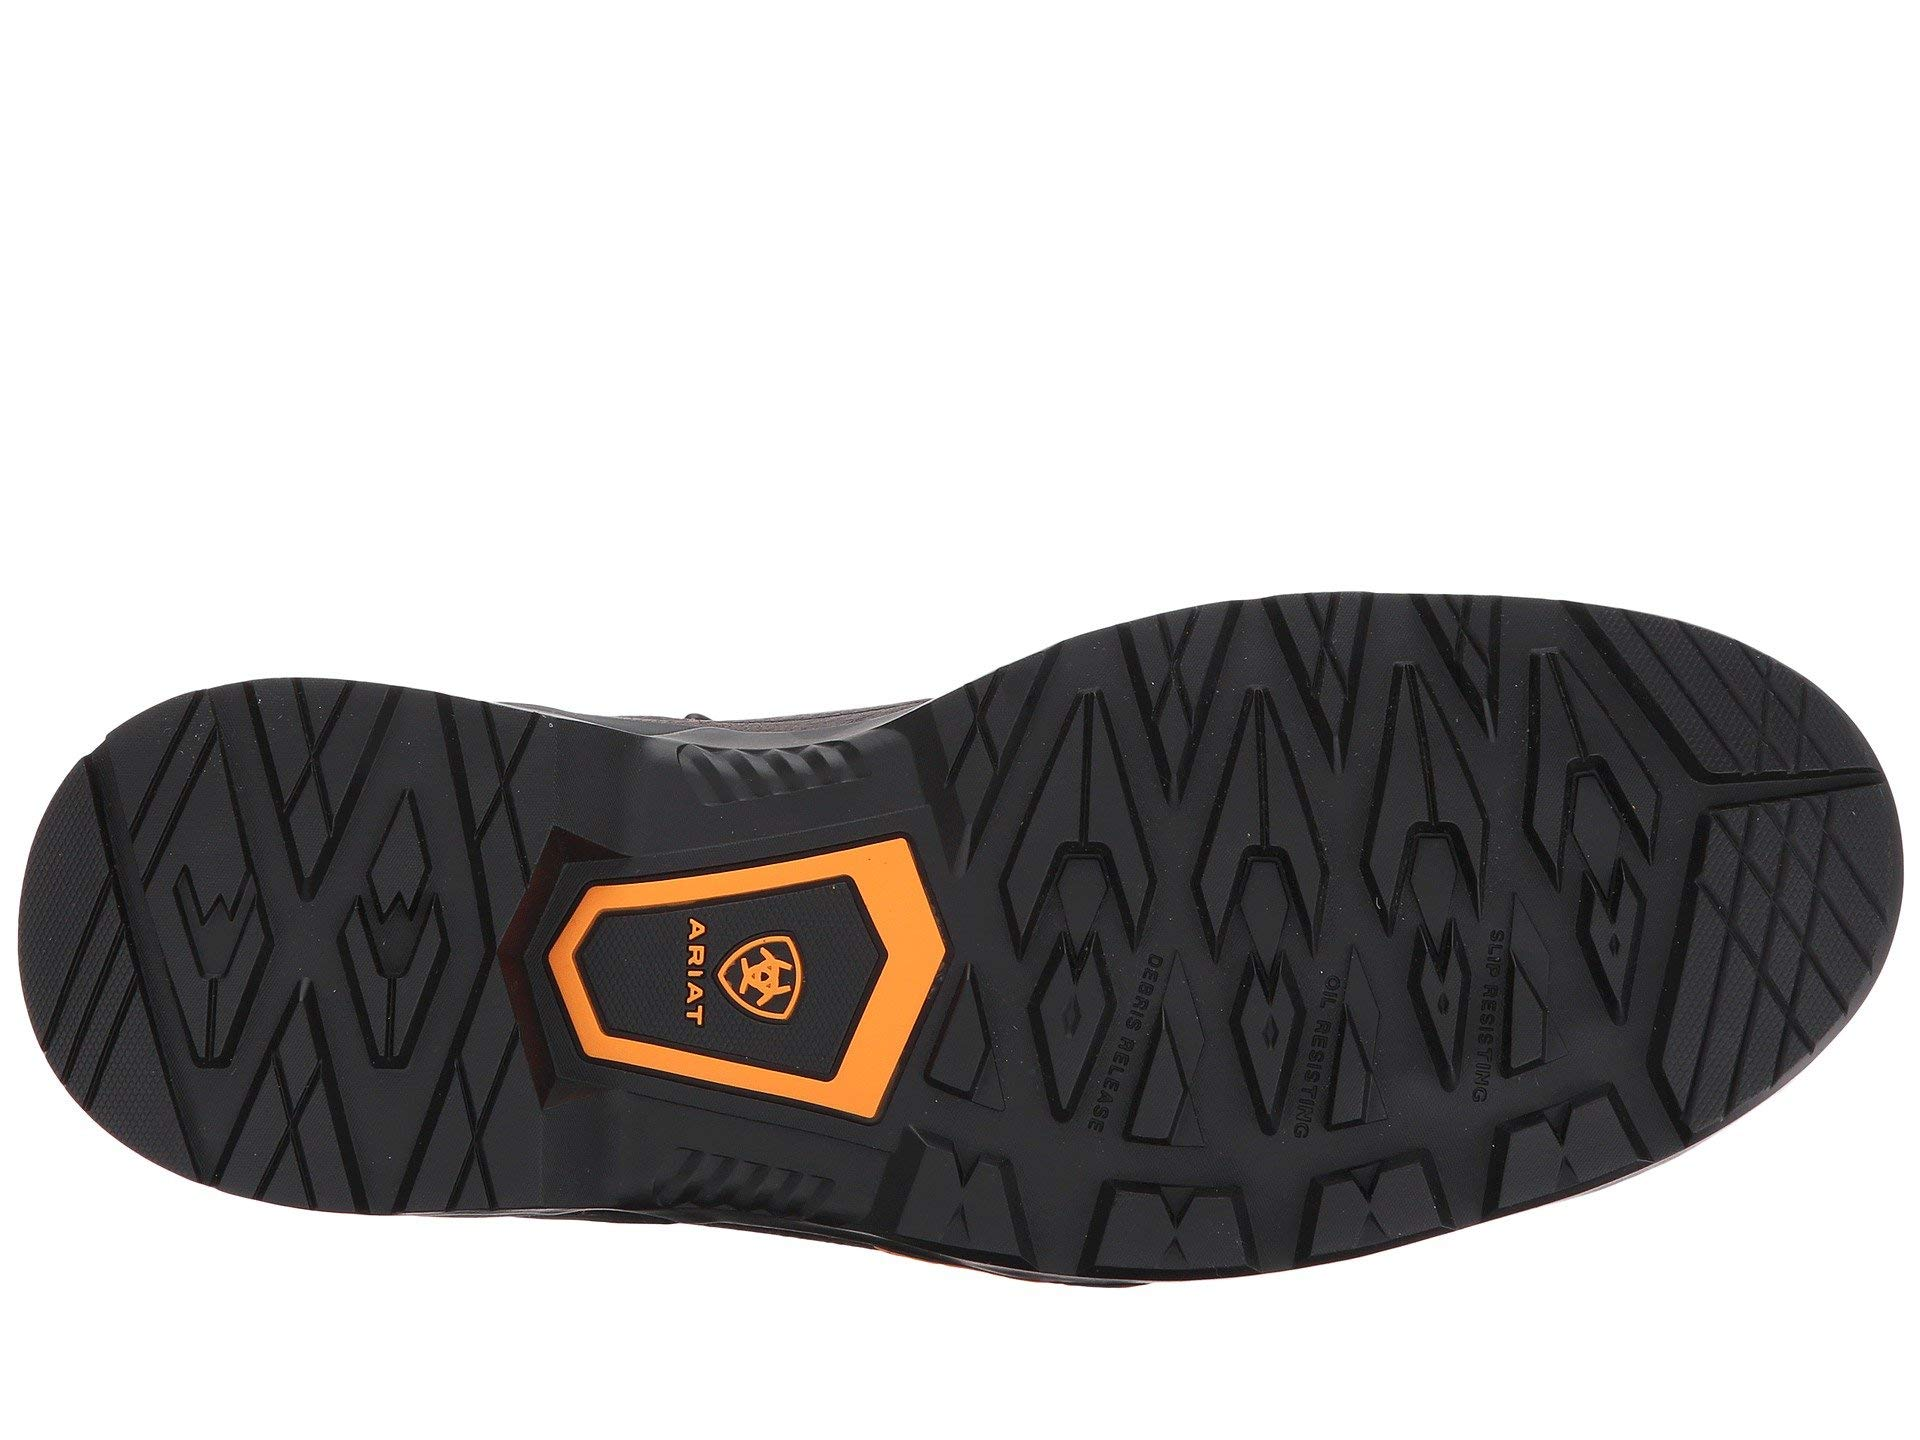polygon: (531, 824, 963, 1134)
quad: (32, 867, 206, 1184), (1581, 616, 1875, 799), (1671, 805, 1894, 1029), (204, 964, 361, 1215), (389, 954, 523, 1210), (234, 669, 386, 895), (924, 644, 1063, 843), (1122, 597, 1250, 805), (1268, 582, 1386, 753), (1401, 588, 1533, 734), (1287, 974, 1400, 1139), (1460, 938, 1569, 1106), (422, 694, 546, 821)
text: (531, 824, 963, 1134), (1460, 938, 1569, 1106)
triangle: (531, 824, 963, 1134), (32, 867, 206, 1184), (1581, 616, 1875, 799), (1671, 805, 1894, 1029), (204, 964, 361, 1215), (389, 954, 523, 1210), (234, 669, 386, 895), (924, 644, 1063, 843), (1122, 597, 1250, 805), (1268, 582, 1386, 753), (1401, 588, 1533, 734), (1287, 974, 1400, 1139), (422, 694, 546, 821), (1119, 1013, 1209, 1165)
